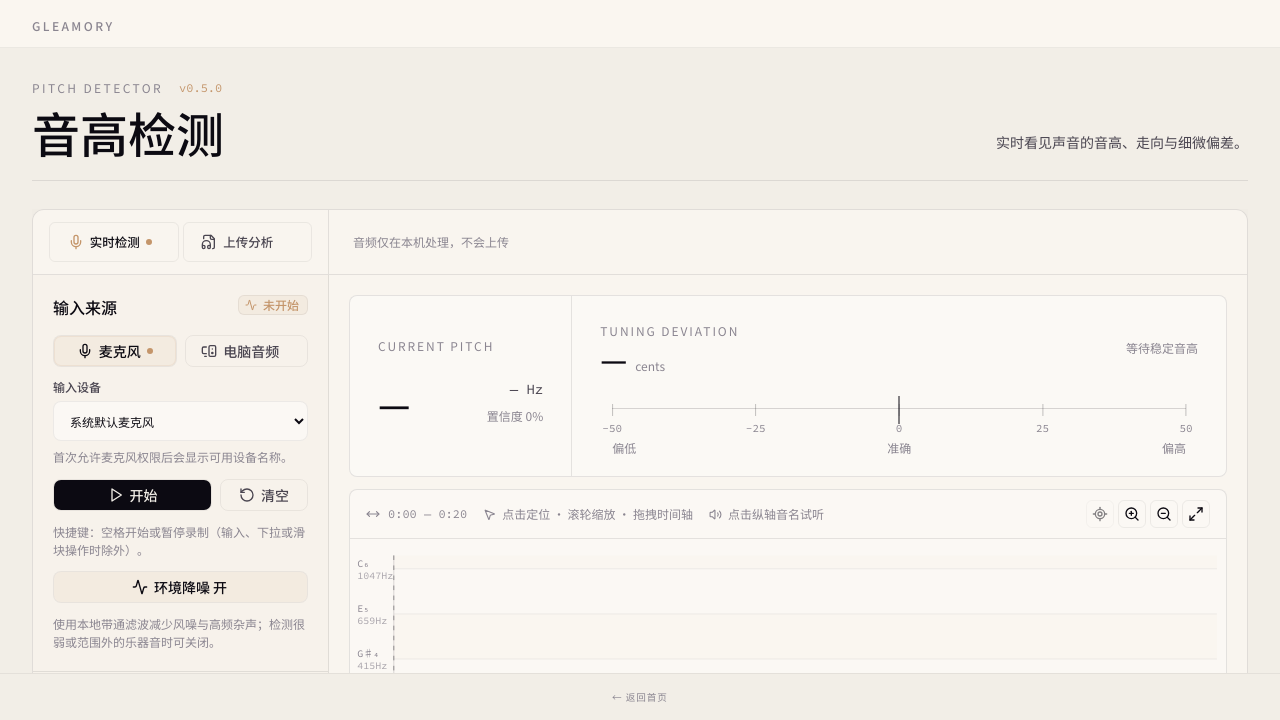
PitchDetectorPage › explains the HTTPS requirement when media devices are unavailable
Click the button "开始" at (132, 494), box [53,478,212,510]
(page scrolled)
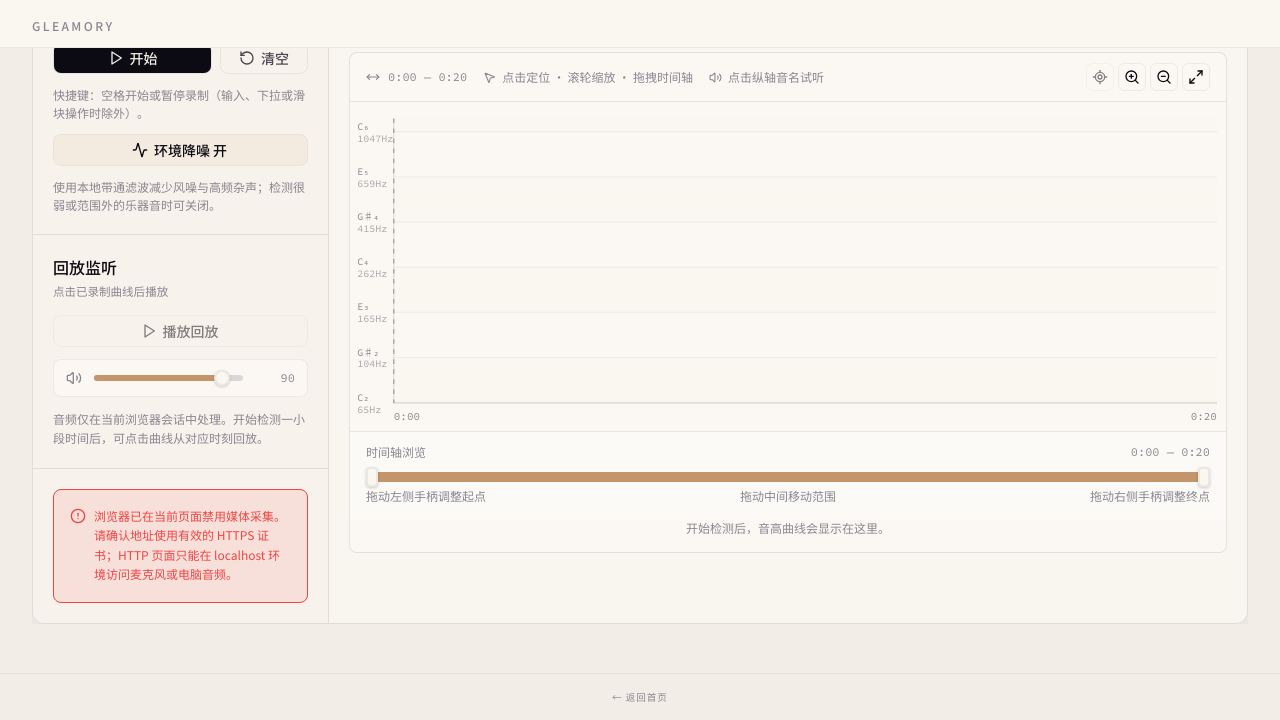
Check: the text "有效的 HTTPS 证书" is shown, box [94,507,286,582]
